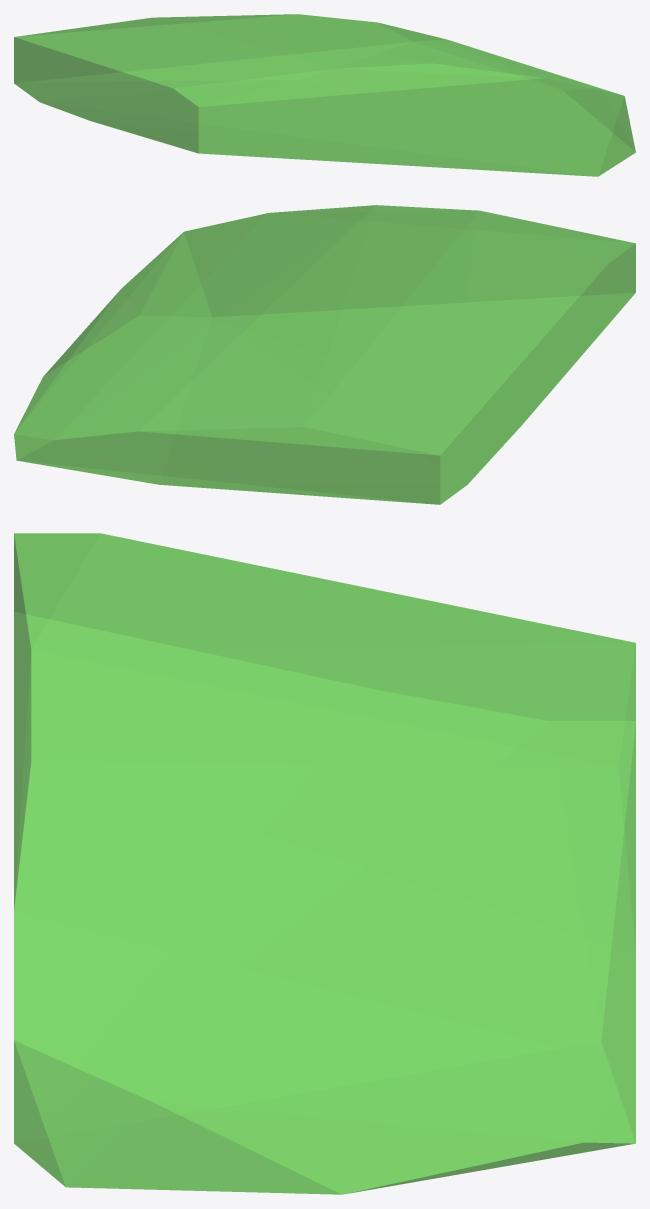
3 renders of one model, top to bottom at view 1: azimuth 30°, elevation 25°; view 2: azimuth 150°, elevation 25°; view 3: azimuth 270°, elevation 25°, orthographic. The views are drawn at different scales.
Visible parts, largest first — view 1: Shape_IndexedFaceSet.014_Shape_IndexedFaceSet.612; view 2: Shape_IndexedFaceSet.014_Shape_IndexedFaceSet.612; view 3: Shape_IndexedFaceSet.014_Shape_IndexedFaceSet.612.
Boxes of the visible parts, left/top/right/bottom form: Shape_IndexedFaceSet.014_Shape_IndexedFaceSet.612: left=14, top=14, right=635, bottom=176; Shape_IndexedFaceSet.014_Shape_IndexedFaceSet.612: left=14, top=205, right=635, bottom=504; Shape_IndexedFaceSet.014_Shape_IndexedFaceSet.612: left=14, top=533, right=635, bottom=1194.
Size of the model in its own units: 0.0969 by 0.0335 by 0.0671.
